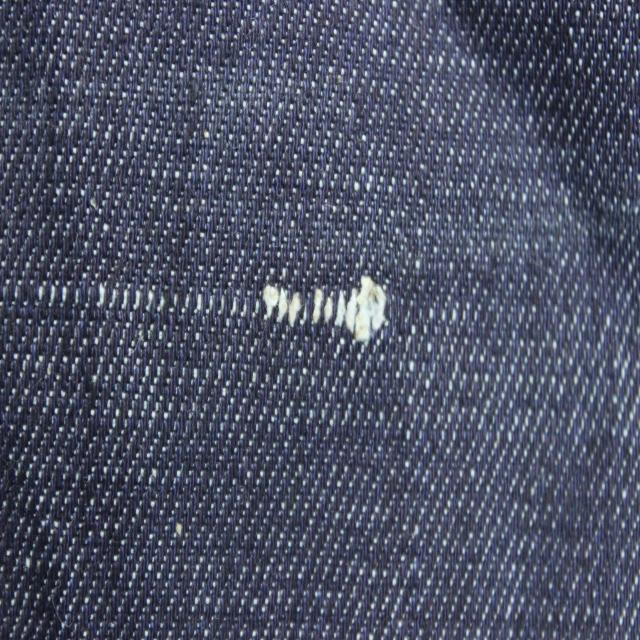pulled_or_thick_thread: (4, 279, 389, 345)
